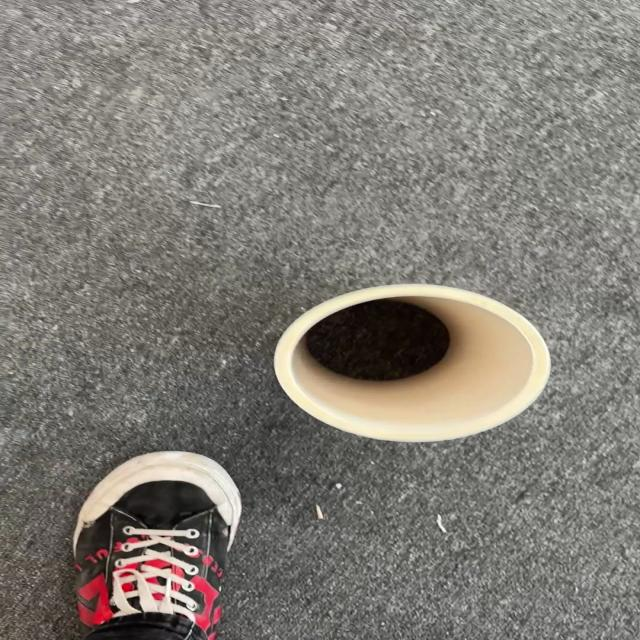Coral: (271, 282, 552, 443)
